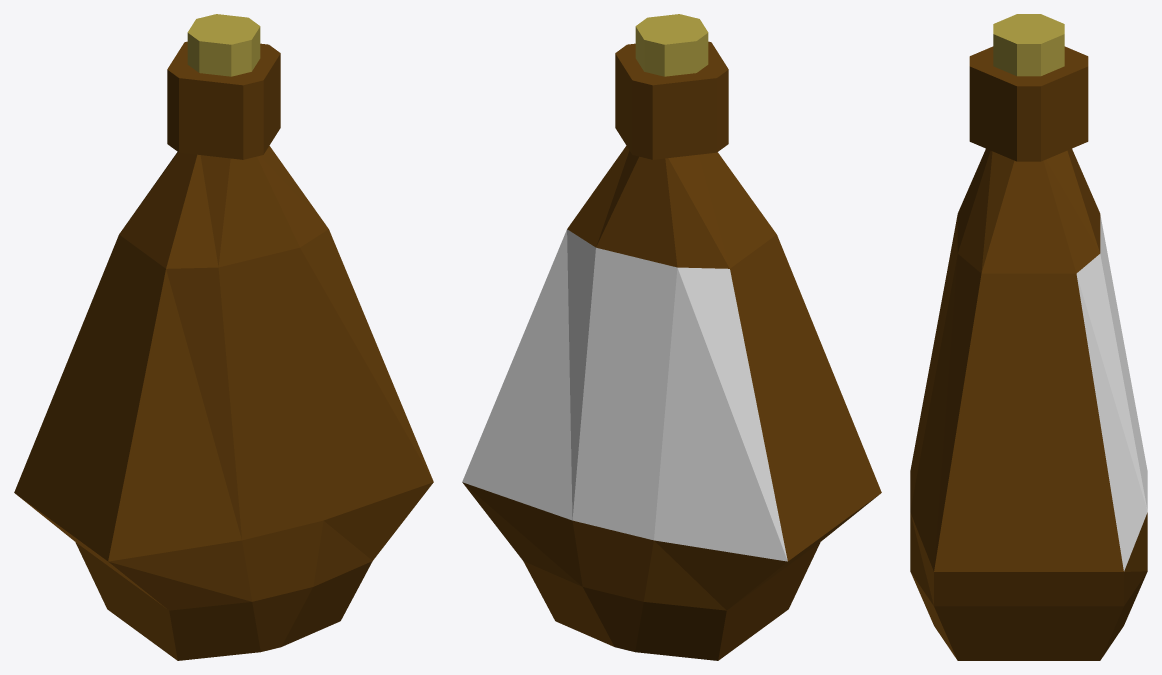
Rendered from inv_silver_bottle_2.obj.
3 views of the same model, side by side, from view 1: azimuth 30°, elevation 25°; view 2: azimuth 150°, elevation 25°; view 3: azimuth 270°, elevation 25° (orthographic).
Size of the model in its own units: 0.25 by 0.4297 by 0.1562.
